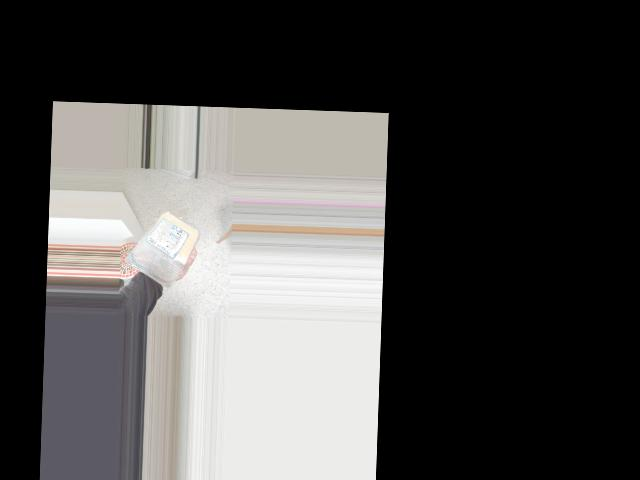cheese: (131, 208, 195, 281)
